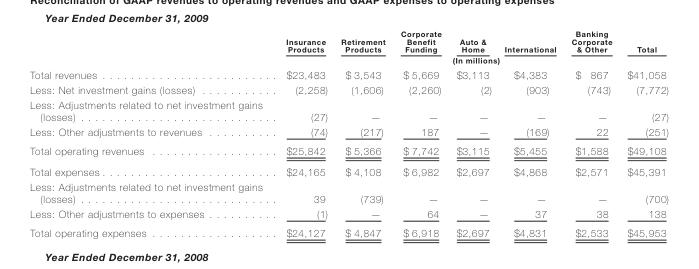table: (29, 28, 667, 237)
table column: (29, 28, 273, 237), (501, 28, 563, 237), (273, 28, 333, 237), (333, 28, 392, 237), (392, 28, 448, 237), (563, 28, 619, 237), (448, 28, 501, 237), (619, 28, 667, 237)
table column header: (29, 28, 667, 66)
table row: (29, 28, 667, 54), (29, 97, 667, 123), (29, 179, 667, 205), (29, 140, 667, 160), (29, 160, 667, 179), (29, 123, 667, 140), (29, 205, 667, 222), (29, 81, 667, 97), (29, 66, 667, 81), (29, 222, 667, 237), (29, 54, 667, 66)
table spanning cell: (501, 28, 563, 66), (273, 28, 333, 66), (333, 28, 392, 66), (563, 28, 619, 66), (619, 28, 667, 66), (392, 54, 501, 66)
